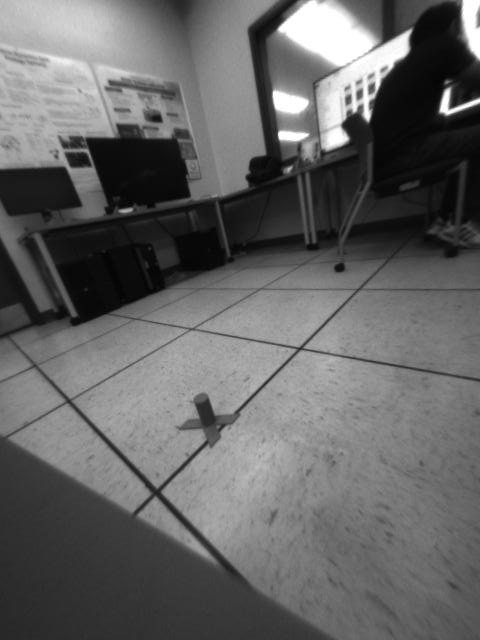X: (175, 389, 241, 449)
